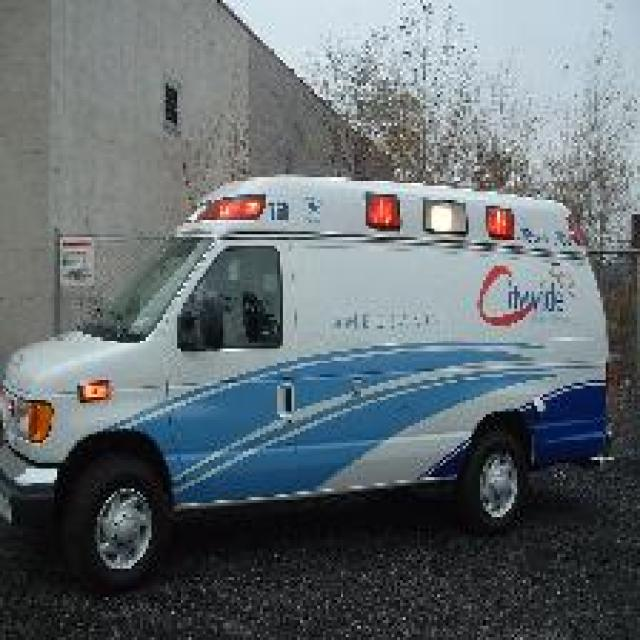Ambulance: (0, 168, 617, 592)
